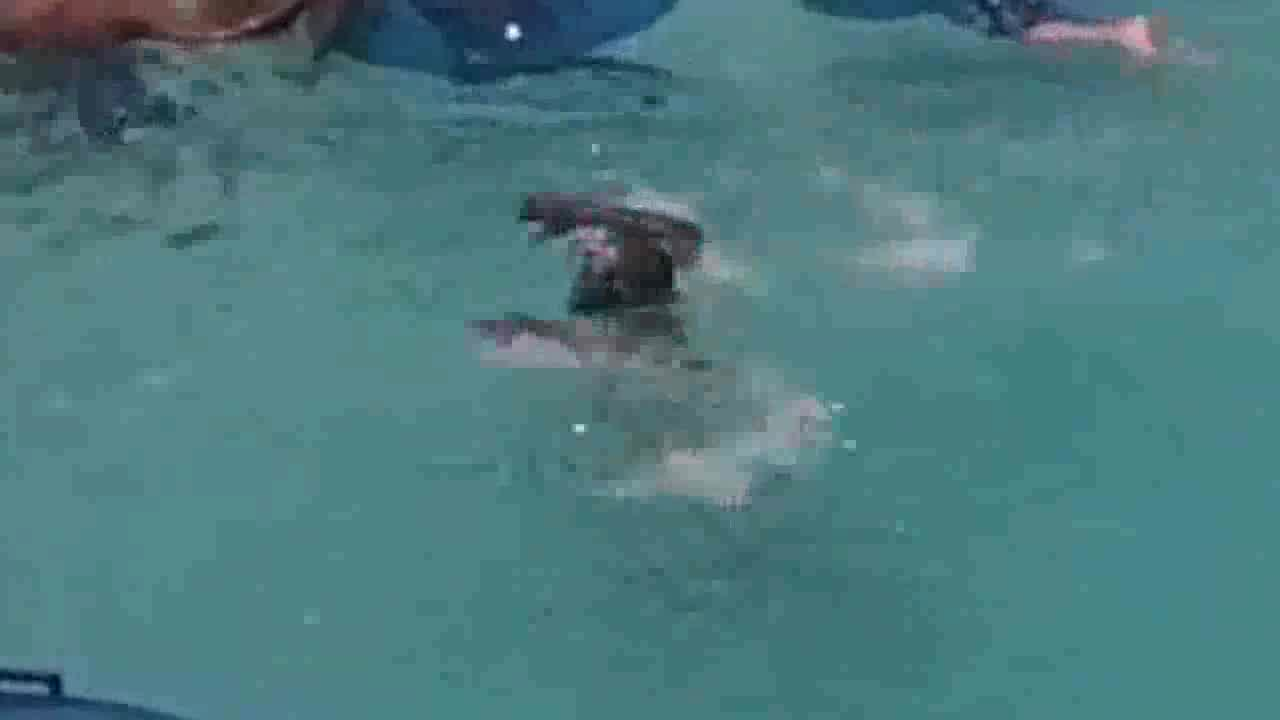Drowning: (483, 186, 849, 499)
